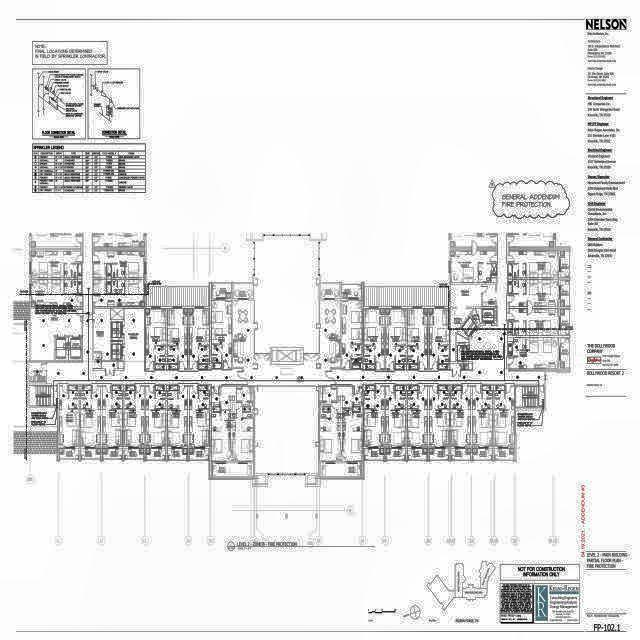room: (233, 299, 340, 381), (255, 386, 318, 474), (27, 295, 88, 361), (337, 387, 362, 461), (509, 337, 560, 369), (211, 388, 231, 461), (31, 249, 81, 278), (59, 387, 79, 459), (211, 300, 232, 368), (450, 251, 495, 282), (509, 309, 560, 336), (509, 251, 559, 278), (95, 251, 144, 278), (342, 301, 362, 367), (509, 280, 559, 306), (189, 308, 210, 369), (189, 387, 210, 447), (102, 387, 123, 446), (81, 387, 101, 447), (146, 309, 166, 369), (167, 309, 187, 369), (124, 387, 144, 447), (146, 387, 166, 447), (167, 387, 187, 447), (451, 387, 471, 447), (364, 308, 384, 368), (386, 308, 406, 368), (407, 308, 427, 368), (429, 308, 449, 368), (364, 387, 384, 446), (386, 387, 406, 446), (429, 387, 449, 446), (473, 387, 493, 446), (494, 387, 514, 446), (407, 387, 427, 445), (230, 418, 253, 461), (320, 418, 341, 461), (94, 308, 110, 360), (28, 384, 59, 408), (450, 284, 481, 307), (95, 295, 144, 307), (516, 386, 544, 407), (31, 280, 63, 294), (29, 362, 46, 382), (508, 338, 526, 356), (482, 284, 496, 306), (479, 264, 496, 282), (212, 283, 231, 299), (233, 283, 253, 298), (320, 283, 340, 298), (363, 384, 374, 409), (407, 384, 418, 409), (482, 384, 493, 409), (560, 338, 569, 368), (106, 280, 125, 294), (125, 280, 144, 294), (407, 346, 418, 370), (81, 446, 101, 459), (236, 402, 253, 417), (64, 264, 82, 278), (64, 280, 82, 294), (107, 264, 125, 278), (494, 448, 515, 460), (508, 264, 526, 278), (508, 280, 526, 294), (508, 322, 526, 336), (396, 384, 406, 409), (439, 384, 449, 409), (451, 384, 461, 409), (494, 384, 504, 409), (342, 285, 361, 298), (146, 448, 166, 460), (320, 402, 336, 417), (364, 448, 384, 460), (386, 448, 406, 460), (429, 448, 449, 460), (451, 448, 471, 460), (473, 448, 493, 460), (168, 448, 188, 460), (364, 346, 374, 370), (396, 346, 406, 370), (237, 387, 254, 401), (560, 251, 569, 277), (560, 280, 569, 306), (560, 309, 569, 335), (189, 449, 210, 460), (352, 345, 362, 368), (408, 448, 427, 460), (124, 448, 144, 459), (103, 448, 122, 459), (167, 391, 178, 409), (199, 391, 210, 409), (112, 391, 123, 408), (323, 387, 336, 401), (69, 391, 79, 409), (124, 391, 134, 409), (156, 391, 166, 409), (439, 346, 449, 364), (94, 264, 106, 278), (94, 280, 106, 294), (112, 344, 122, 359), (102, 362, 123, 369), (81, 385, 91, 399), (112, 323, 121, 337), (451, 363, 468, 370)
